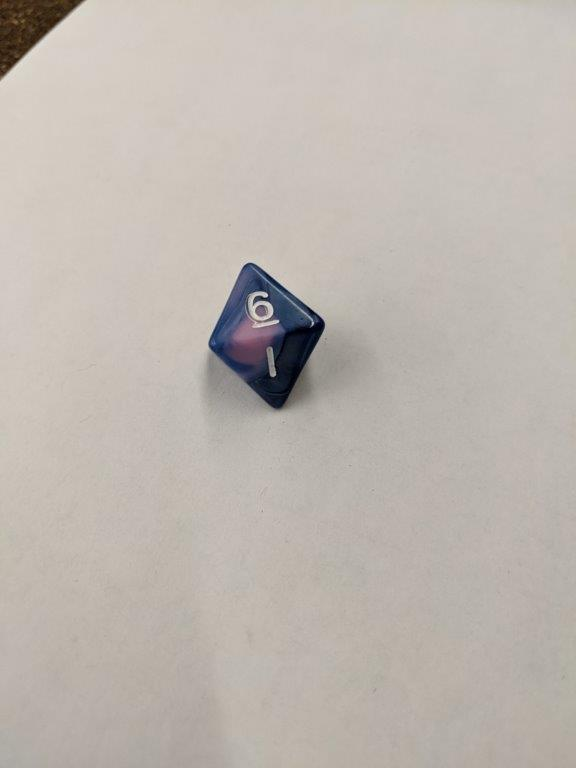d8-6: (202, 261, 327, 411)
